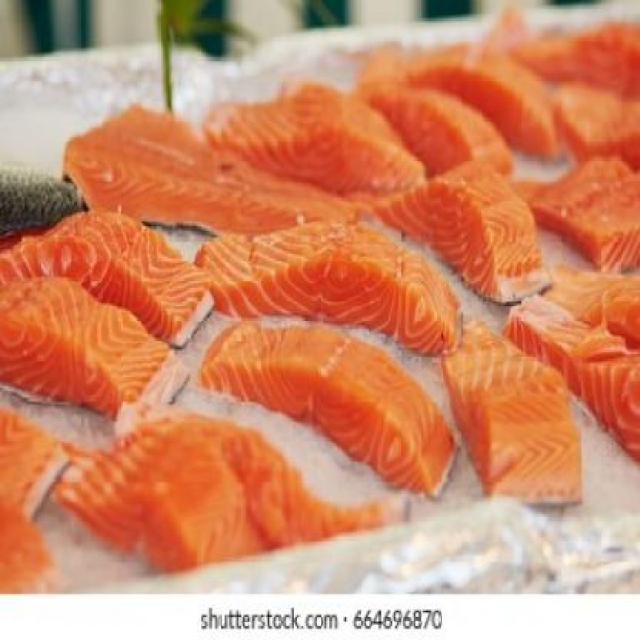salmon: (66, 409, 395, 574), (206, 311, 461, 503), (71, 97, 382, 234), (190, 222, 478, 361), (374, 151, 572, 313), (434, 302, 591, 504), (6, 209, 221, 346), (2, 272, 192, 414), (212, 72, 431, 192), (360, 37, 567, 160), (286, 71, 509, 178), (506, 132, 640, 278), (555, 63, 640, 165)
